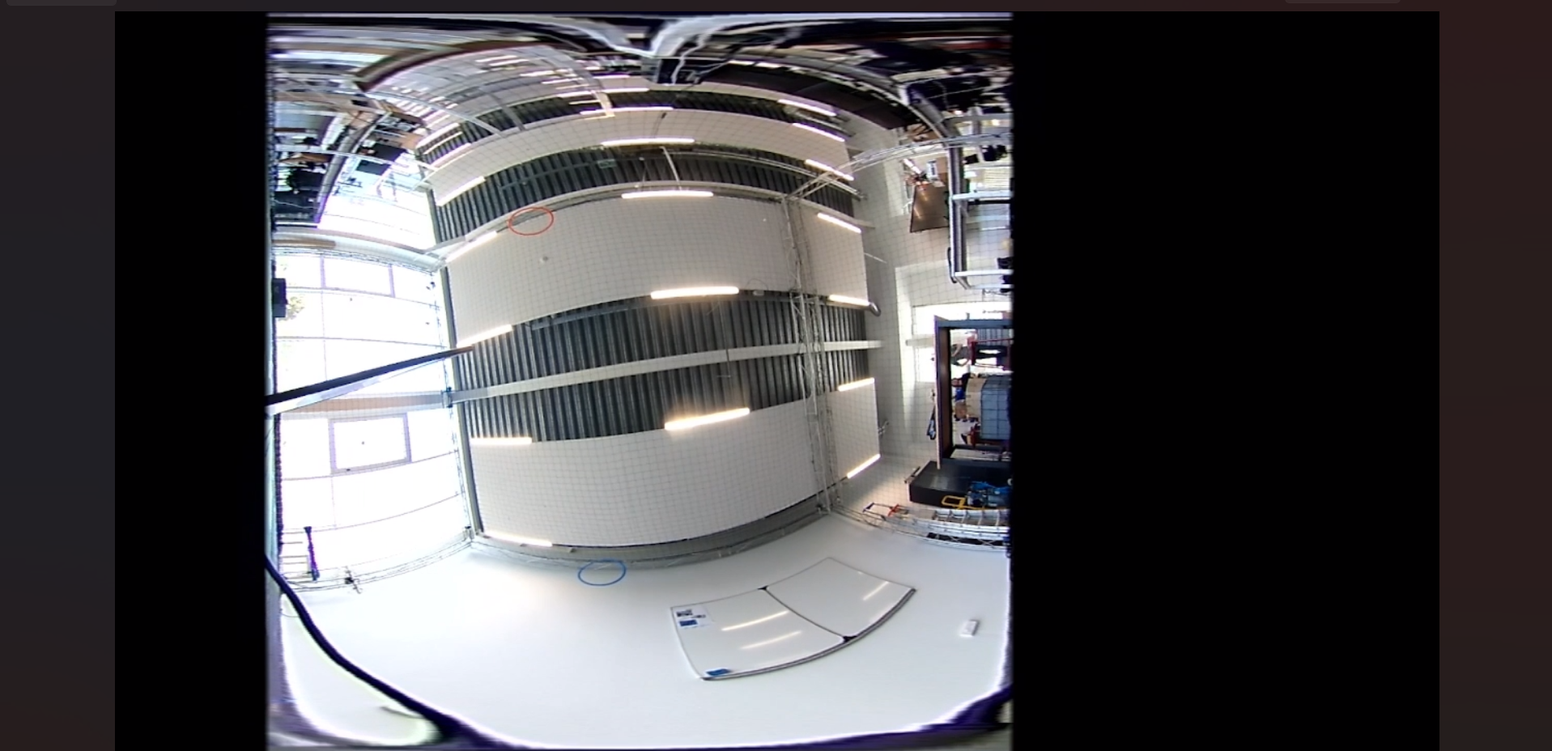Drone: (333, 562, 371, 598), (344, 293, 358, 306)
